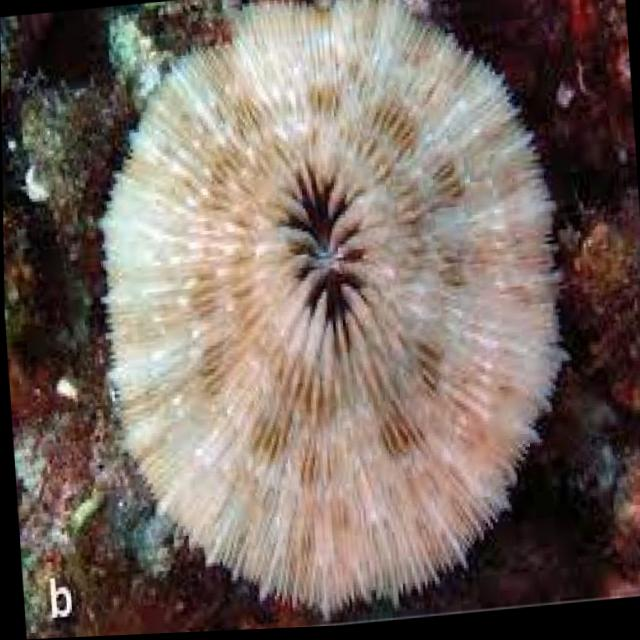Healthy Coral: (80, 0, 582, 637)
